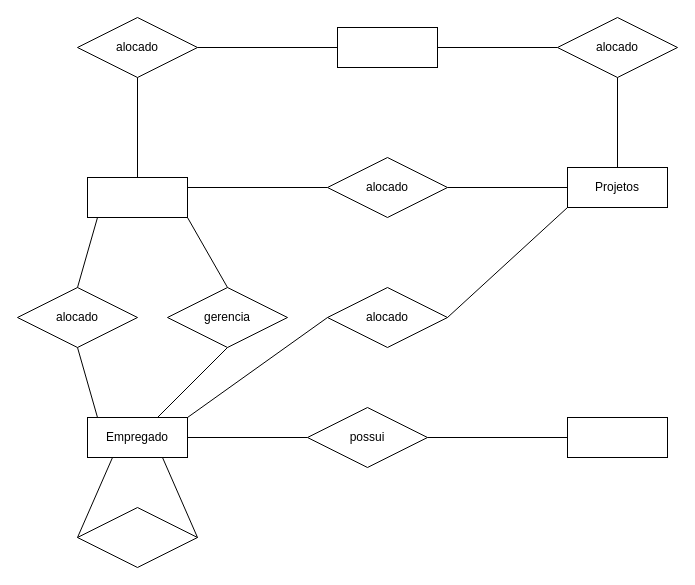
Image size: 695x585. Some labels were removed from this diagram. The centre of each missing label's shape, as x and y in pixels:
"Departamento" belongs at (x=137, y=197).
"Dependente" belongs at (x=617, y=437).
"Localidade" belongs at (x=387, y=47).
"supervisiona" belongs at (x=137, y=537).
